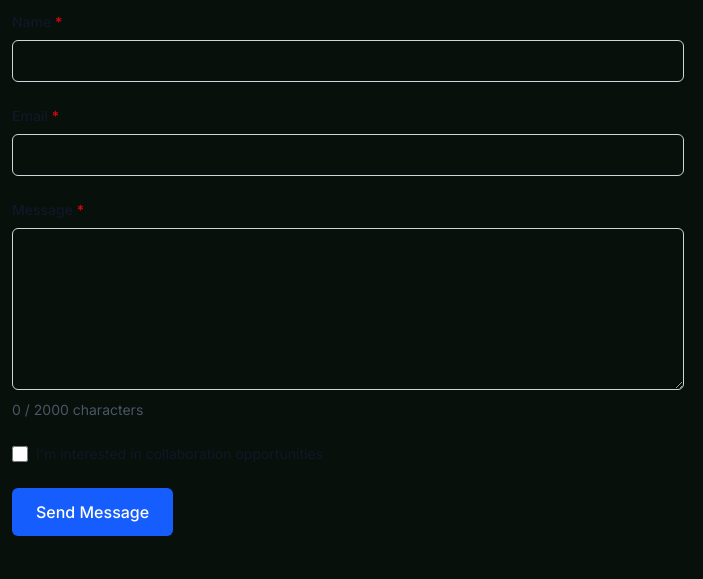
Test: FeedbackForm › shows validation error for invalid email
In the field labelled "Name *": (348, 61) [12,40,684,82], type "John Doe"
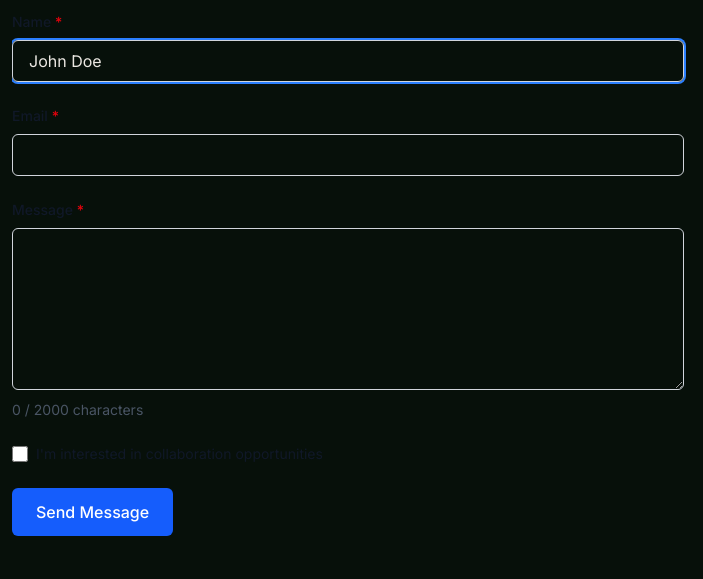
In the field labelled "Email *": (348, 155) [12,134,684,176], type "notanemail"
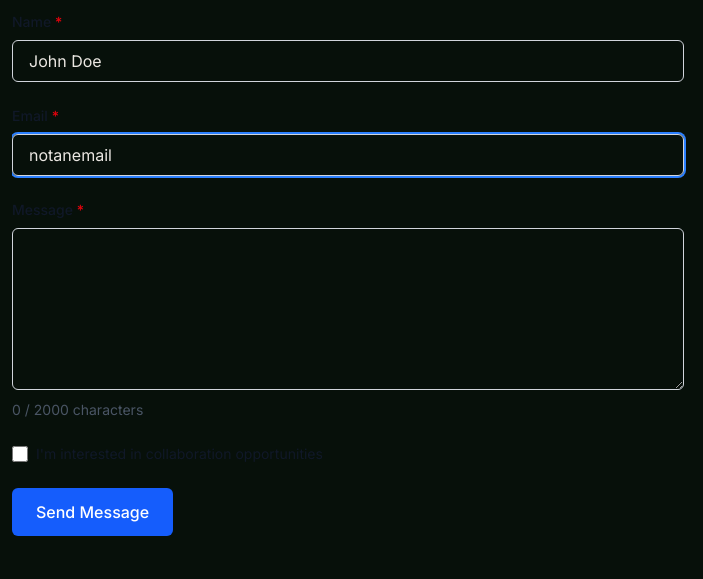
In the text box labelled "Message *": (348, 309) [12,228,684,390], type "This is a test message."
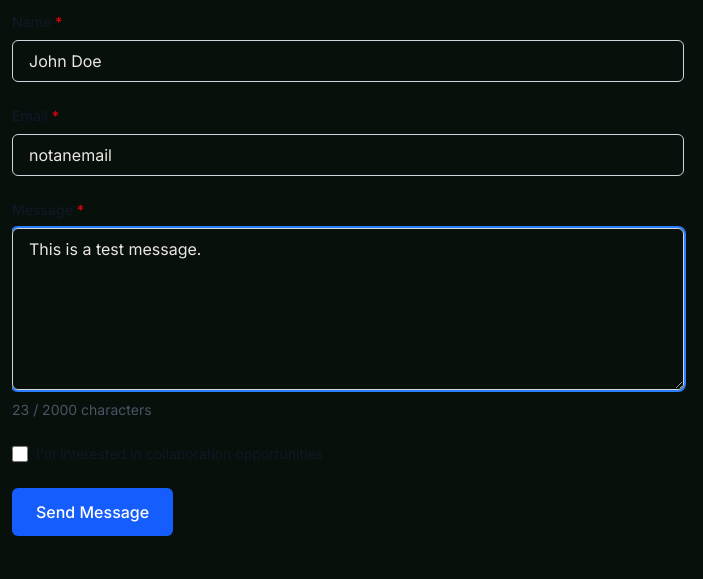
Click the button "Send Message": (93, 512) [12,488,173,536]
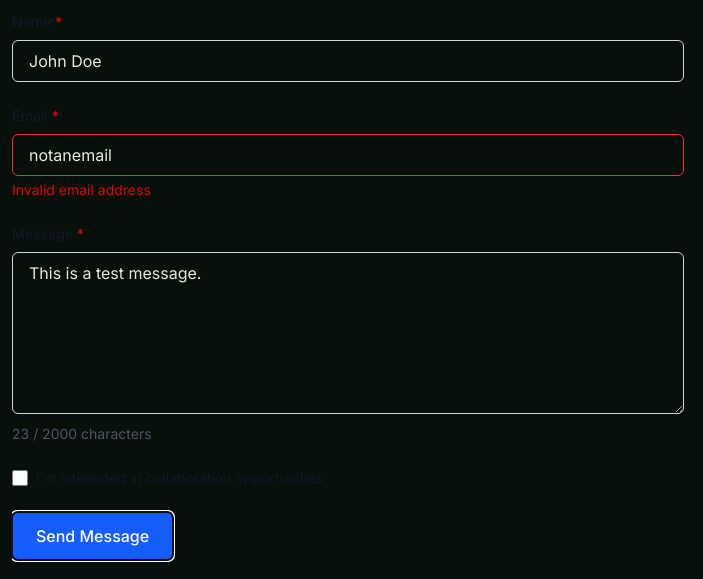
Check: the text "Invalid email address" is shown, box [12,181,151,198]
